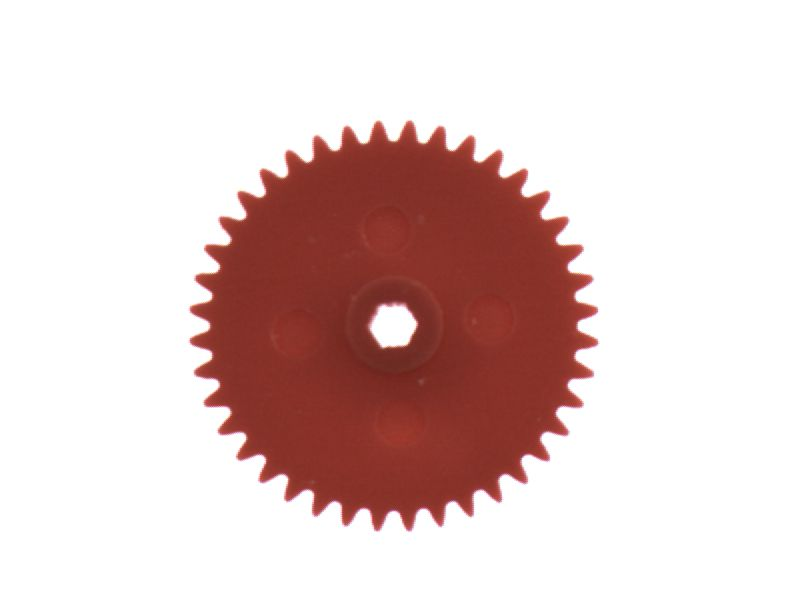good_product: (170, 105, 613, 544)
